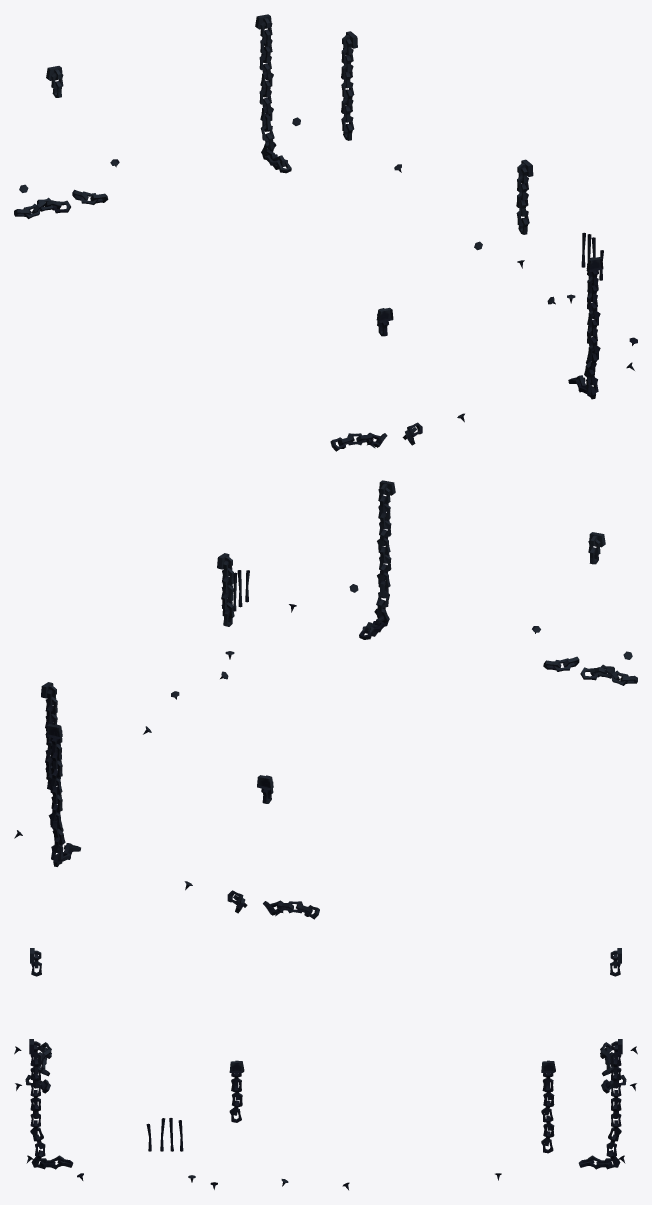
Rendered from Iron_01.FBX.
3 views of the same model, one above another, from view 1: azimuth 30°, elevation 25°; view 2: azimuth 150°, elevation 25°; view 3: azimuth 270°, elevation 25° (orthographic). The views are drawn at different scales.
Parts seen in each view (by area): view 1: Iron_01; view 2: Iron_01; view 3: Iron_01.
Boxes of the visible parts, <box> form: Iron_01: <box>14,14,637,451</box>; Iron_01: <box>14,480,637,919</box>; Iron_01: <box>14,948,637,1190</box>.
Size of the model in its own units: 13.47 by 5.59 by 24.76.
